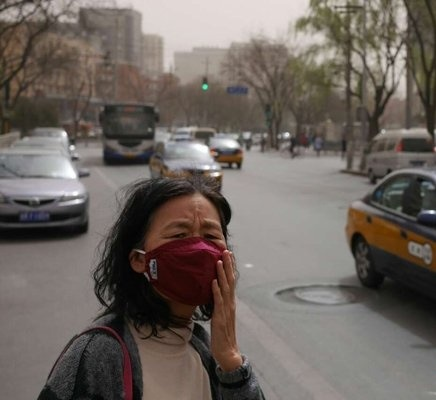face_mask: (145, 199, 228, 297)
